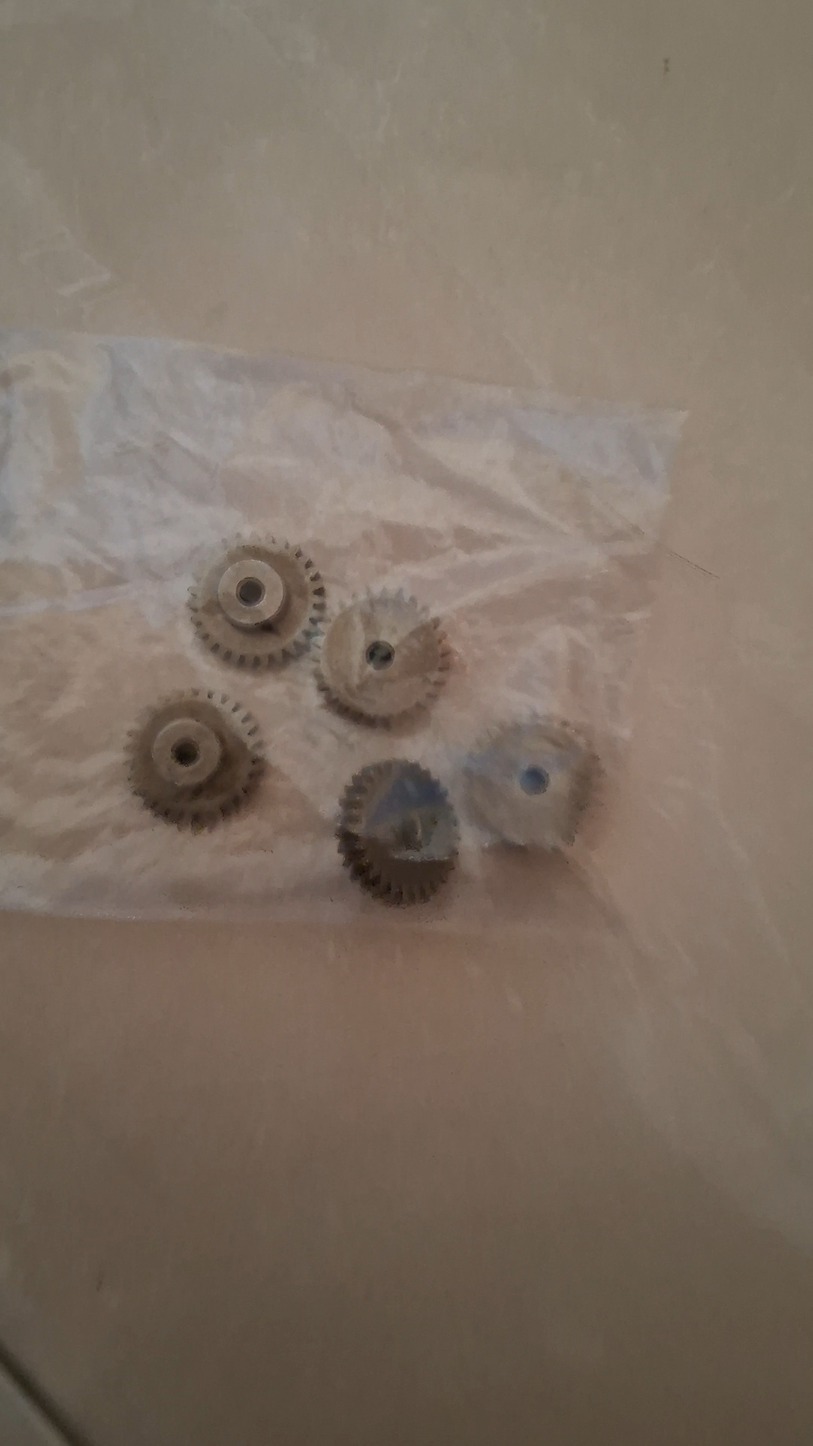spur gear: (129, 689, 263, 828), (317, 591, 450, 723), (337, 760, 458, 905), (189, 538, 325, 667), (465, 718, 597, 849)
